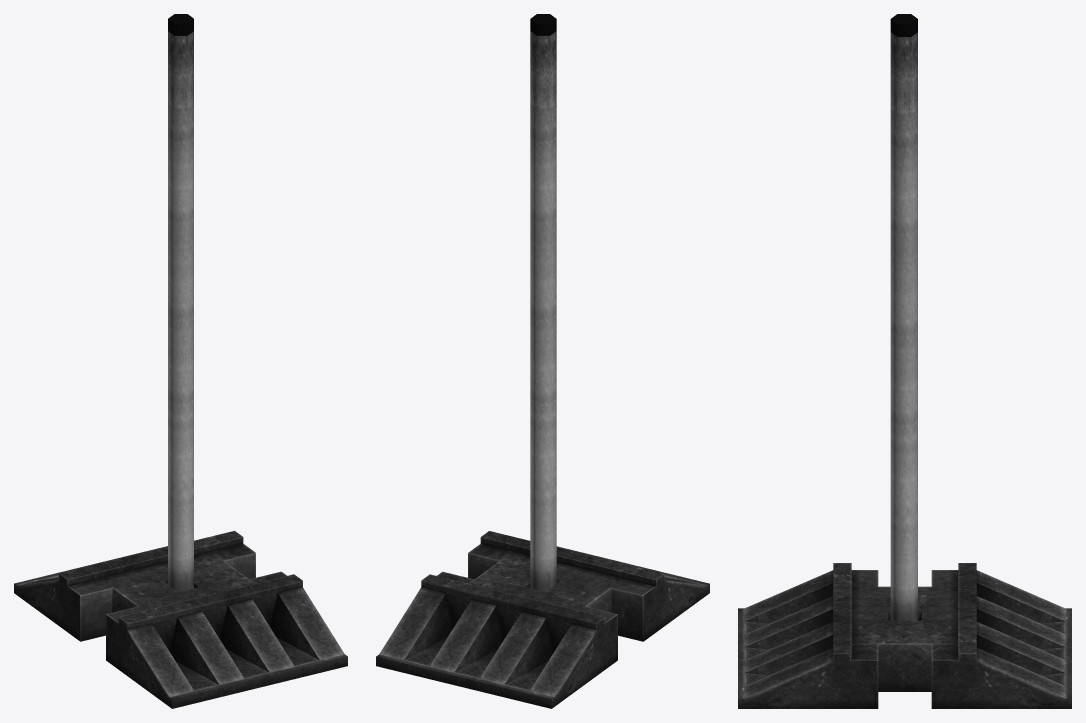
The model's file is Temporary_Stand.fbx.
3 views of the same model, side by side, from view 1: azimuth 30°, elevation 25°; view 2: azimuth 150°, elevation 25°; view 3: azimuth 270°, elevation 25° (orthographic). The views are drawn at different scales.
Visible parts, largest first — view 1: Temporary_Stand_LOD0; view 2: Temporary_Stand_LOD0; view 3: Temporary_Stand_LOD0.
Part boxes in pixels (x1,y1,x2,y2): Temporary_Stand_LOD0: [14, 14, 347, 708]; Temporary_Stand_LOD0: [376, 14, 709, 708]; Temporary_Stand_LOD0: [738, 14, 1071, 708].
Size of what is drawn, in the model's own units: 0.44 by 1.46 by 0.6866.
